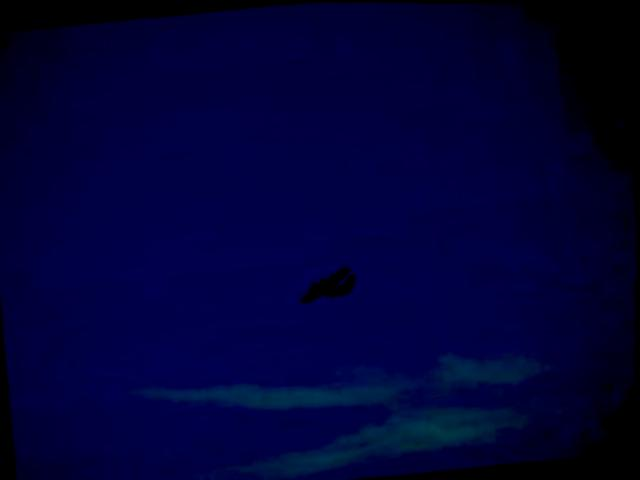uav: (290, 255, 367, 316)
